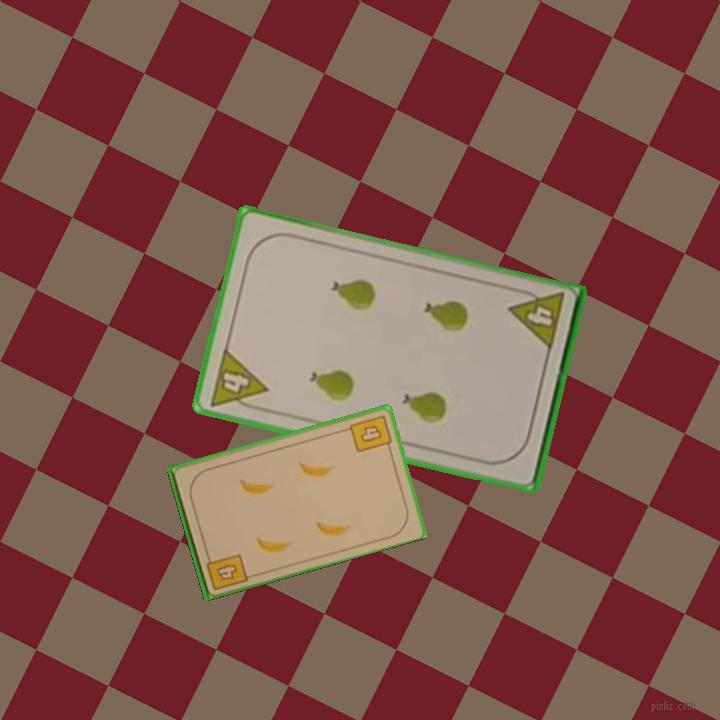4b: (346, 411, 394, 455), (202, 549, 250, 593)
4p: (205, 344, 271, 415), (505, 284, 567, 354)
